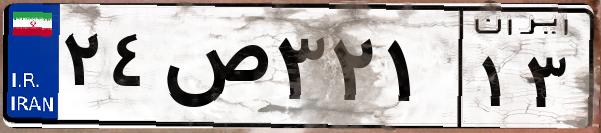1: (385, 28, 445, 110), (475, 38, 525, 113)
2: (330, 28, 385, 110), (57, 26, 110, 100)
3: (270, 28, 330, 110), (525, 38, 570, 115)
4: (110, 28, 158, 98)
ص: (158, 20, 270, 120)
